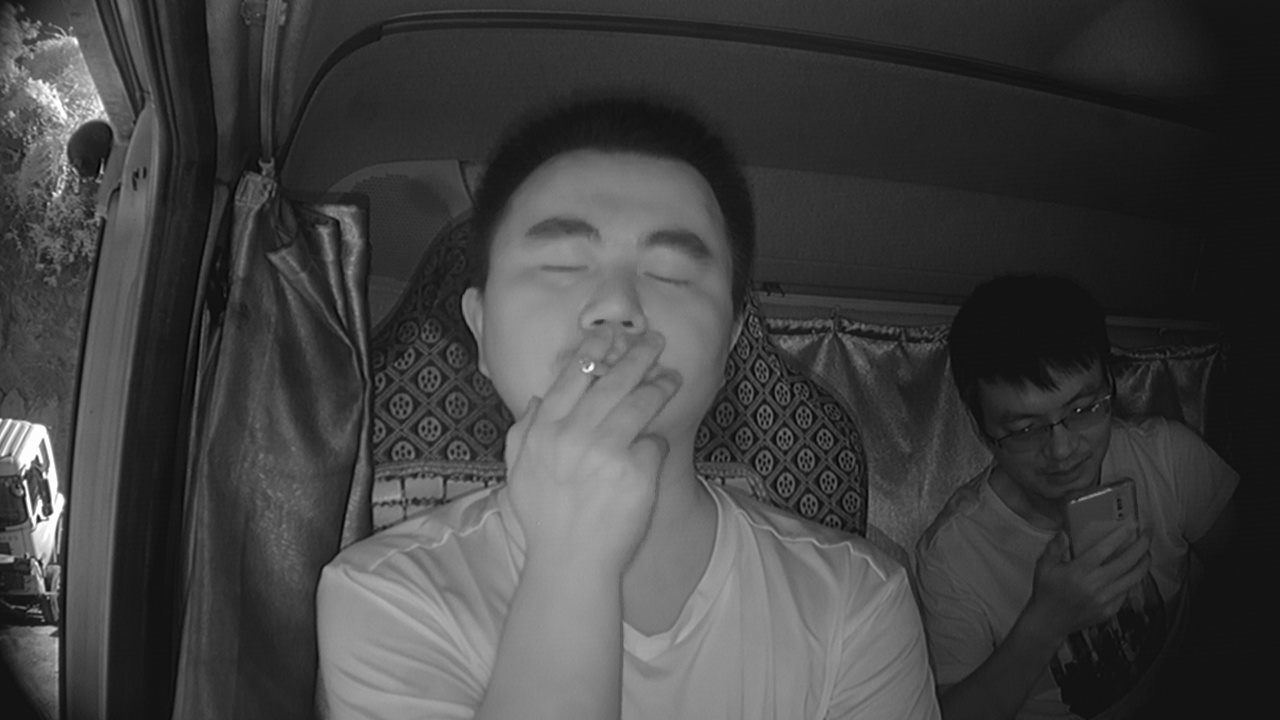hand: (506, 332, 680, 541)
